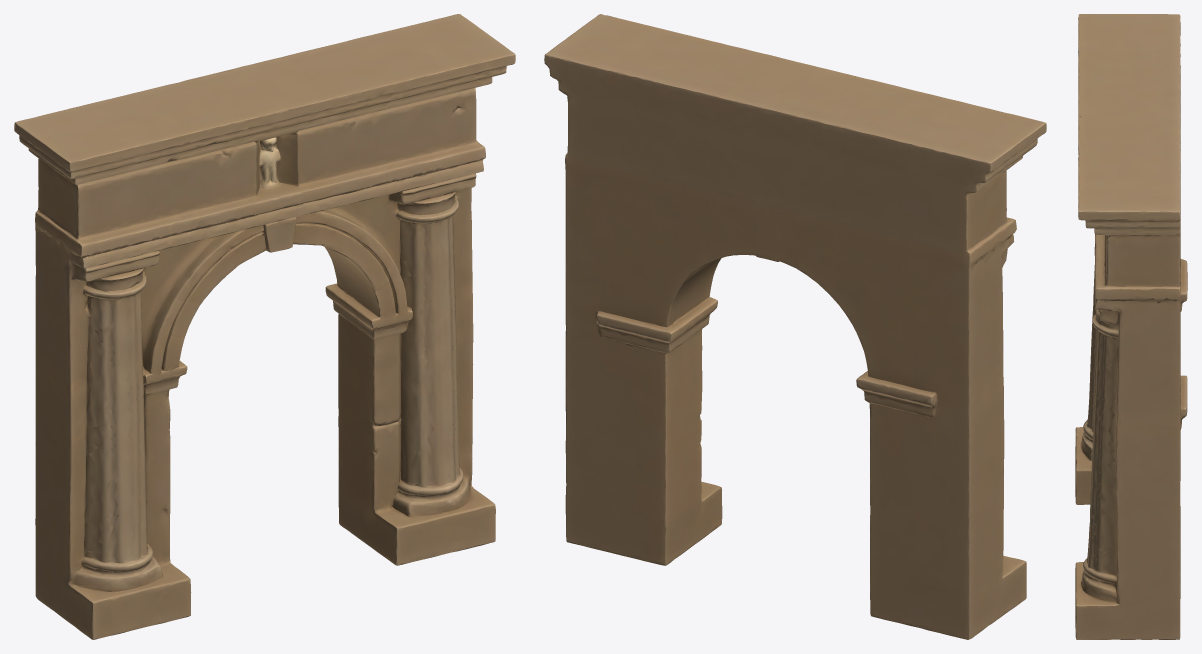
The model's file is bay_colosseum.glb.
The picture shows the model from 3 angles, left to right: view 1: azimuth 30°, elevation 25°; view 2: azimuth 150°, elevation 25°; view 3: azimuth 270°, elevation 25°; orthographic projection. The views are drawn at different scales.
Parts seen in each view (by area): view 1: Mesh; view 2: Mesh; view 3: Mesh.
Boxes of the visible parts, x1=… form: Mesh: x1=14, y1=14, x2=515, y2=639; Mesh: x1=544, y1=14, x2=1046, y2=639; Mesh: x1=1075, y1=14, x2=1187, y2=639.
Bounding box in the file's own units: 1.83 × 1.89 × 0.4376.
Materials: 1 (1 with a texture image).
